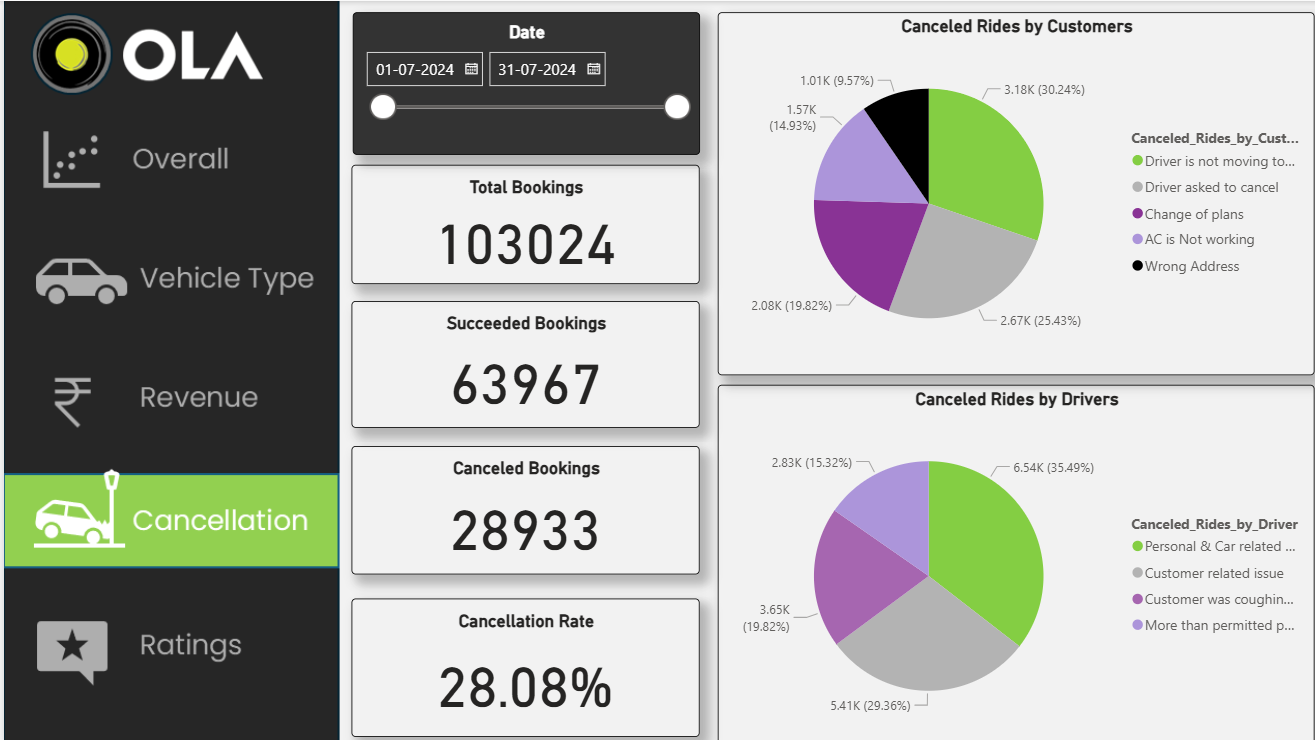

This screenshot's page, from the dashboard's own definition file:
{"tool":"powerbi","page":{"name":"Cancellation","canvas":[1280,720],"ordinal":3},"visuals":[{"type":"actionButton","box":[0,219.6,324.1,91.7],"z":0},{"type":"actionButton","box":[0,103.8,324.5,90.5],"z":1000},{"type":"actionButton","box":[0,340.2,324.5,90.5],"z":2000},{"type":"actionButton","box":[0,576.7,324.5,114.6],"z":3000},{"type":"pieChart","title":"Canceled Rides by Customers","fields":{"Category":["OLA Bookings Excel file.Canceled_Rides_by_Customer"],"Y":["CountNonNull(OLA Bookings Excel file.Canceled_Rides_by_Customer)"]},"box":[688.8,11.2,576.2,350],"z":4000},{"type":"pieChart","title":"Canceled Rides by Drivers","fields":{"Category":["OLA Bookings Excel file.Canceled_Rides_by_Driver"],"Y":["CountNonNull(OLA Bookings Excel file.Canceled_Rides_by_Driver)"]},"box":[688.8,370,576.2,350],"z":5000},{"type":"slicer","title":"Date","fields":{"Values":["OLA Bookings Excel file.Date"]},"box":[336.2,11.2,335,137.5],"z":6000},{"type":"card","title":"Total Bookings","fields":{"Values":["CountNonNull(OLA Bookings Excel file.Booking_ID)"]},"box":[335,157.5,336.2,115],"z":7000},{"type":"card","title":"Succeeded Bookings","fields":{"Values":["CountNonNull(OLA Bookings Excel file.Booking_ID)"]},"box":[335,290,336.2,122.5],"z":8000},{"type":"card","title":"Canceled Bookings","fields":{"Values":["CountNonNull(OLA Bookings Excel file.Booking_ID)"]},"box":[335,430,336.2,123.8],"z":9000},{"type":"card","title":"Cancellation Rate","fields":{"Values":["select","select1","OLA Bookings Excel file.CanceledBookingPerct"]},"box":[335,576.2,336.2,133.8],"z":10000}]}

Visuals, with their boxes in screenshot pixels (x1, y1, x2, y2), scaled from the page's 1280x720 canvas onto the 1315x740 screenshot:
actionButton: locate(0, 226, 333, 320)
actionButton: locate(0, 107, 333, 200)
actionButton: locate(0, 350, 333, 443)
actionButton: locate(0, 593, 333, 711)
"Canceled Rides by Customers" pieChart: locate(708, 12, 1300, 371)
"Canceled Rides by Drivers" pieChart: locate(708, 380, 1300, 739)
"Date" slicer: locate(345, 12, 690, 153)
"Total Bookings" card: locate(344, 162, 690, 280)
"Succeeded Bookings" card: locate(344, 298, 690, 424)
"Canceled Bookings" card: locate(344, 442, 690, 569)
"Cancellation Rate" card: locate(344, 592, 690, 730)
